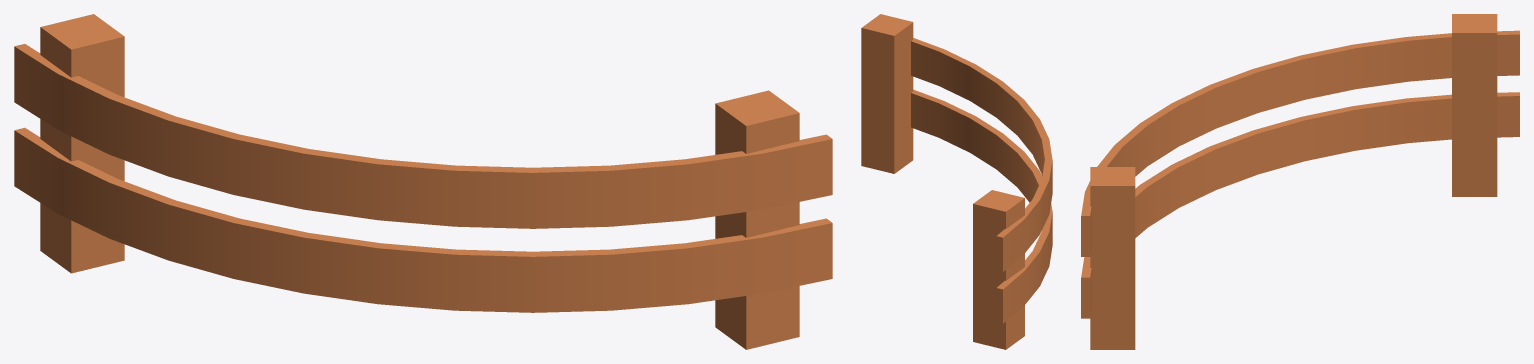
The model's file is fenceCornerCurved.fbx.
3 renders of one model, left to right at view 1: azimuth 30°, elevation 25°; view 2: azimuth 150°, elevation 25°; view 3: azimuth 270°, elevation 25°, orthographic. The views are drawn at different scales.
Parts seen in each view (by area): view 1: fenceCornerCurved; view 2: fenceCornerCurved; view 3: fenceCornerCurved.
Boxes of the visible parts, box(x1,y1,x2,y2) form: fenceCornerCurved: box(14, 14, 832, 349); fenceCornerCurved: box(861, 14, 1052, 349); fenceCornerCurved: box(1081, 14, 1519, 349).
Size of the model in its own units: 9.7 by 4 by 9.7.
